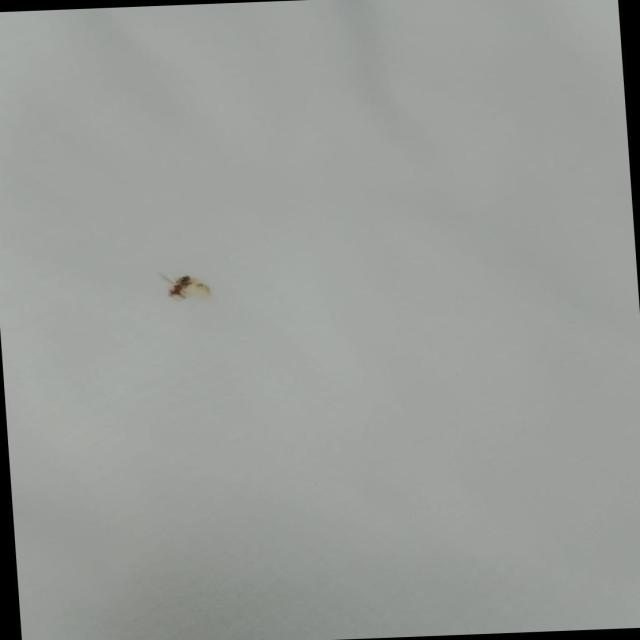stain: (143, 260, 232, 309)
